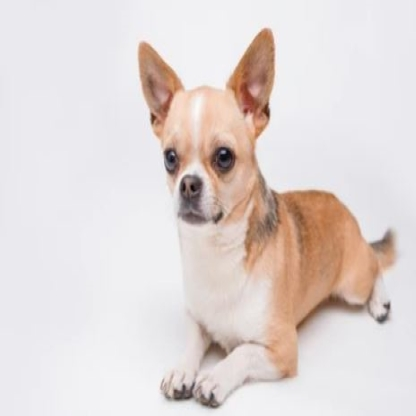chihuahua: (132, 25, 398, 408)
